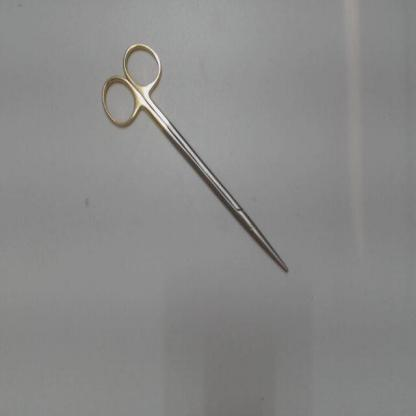7 Metzenbaum Scissors: (100, 40, 289, 271)
